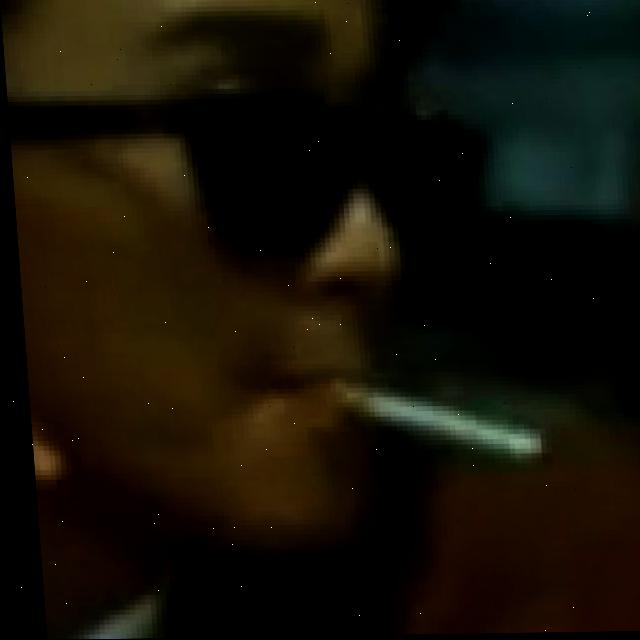cigarette: (308, 378, 540, 469)
